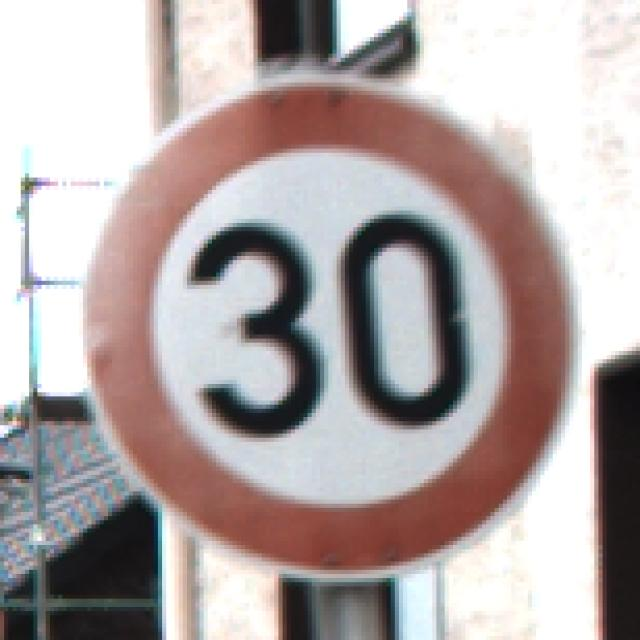Speed Limit -30-: (60, 56, 576, 584)
